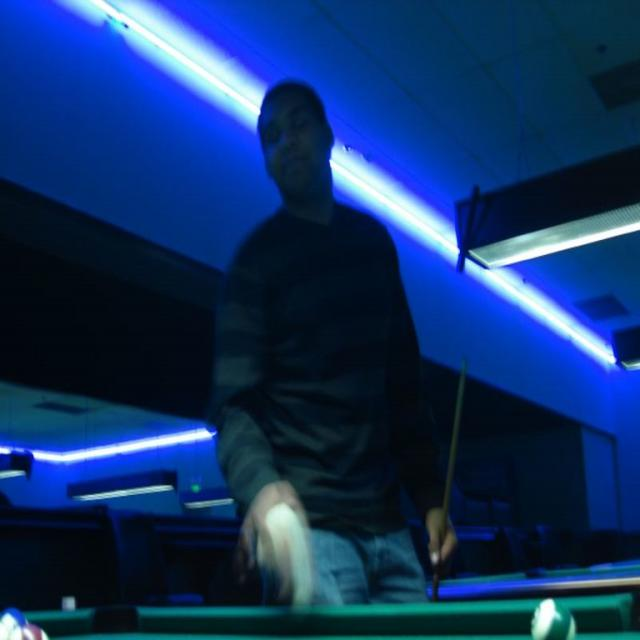Ball: (532, 597, 578, 640), (0, 604, 27, 640), (6, 624, 52, 640)
Billiard table: (0, 596, 640, 640)
